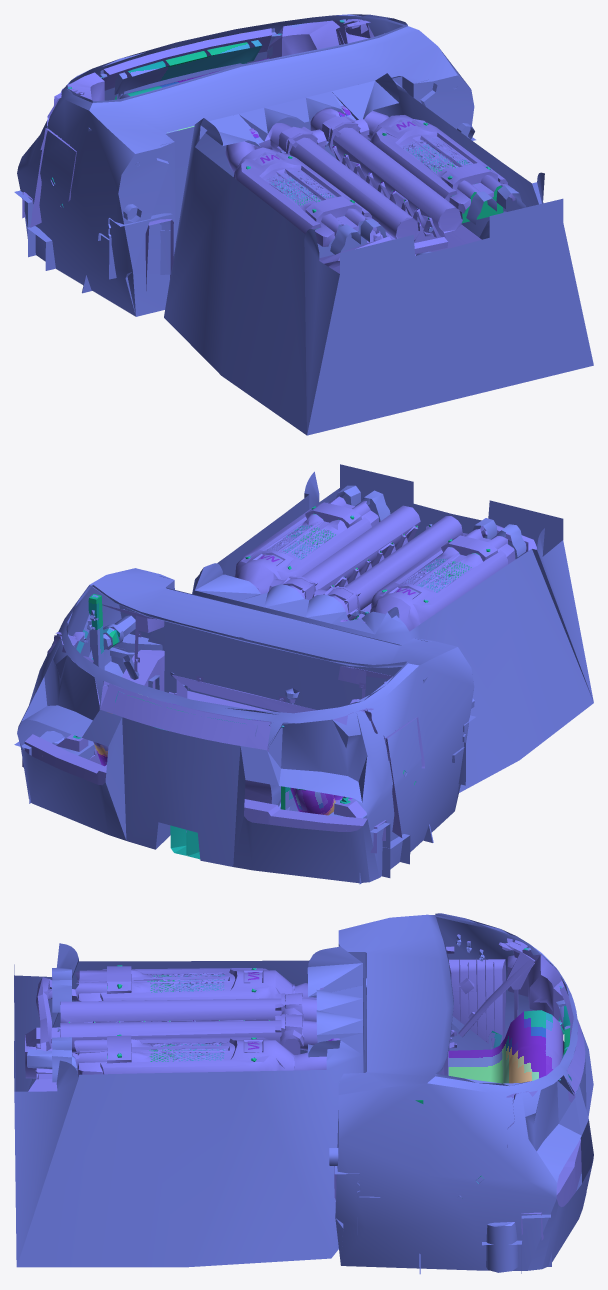
File: bugotti_veyron.fbx
3 renders of one model, top to bottom at view 1: azimuth 30°, elevation 25°; view 2: azimuth 150°, elevation 25°; view 3: azimuth 270°, elevation 25°, orthographic. The views are drawn at different scales.
Visible parts, largest first — view 1: Body_METALEGNINE; view 2: Body_METALEGNINE; view 3: Body_METALEGNINE.
Part boxes in pixels (<box>): Body_METALEGNINE: <box>14,14,593,435</box>; Body_METALEGNINE: <box>14,464,593,884</box>; Body_METALEGNINE: <box>14,913,593,1274</box>.
Bounding box in the file's own units: 131 × 66.25 × 170.
